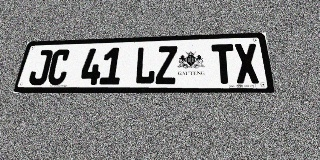1: (99, 47, 123, 85)
4: (79, 48, 104, 85)
C: (46, 49, 71, 85)
J: (27, 50, 53, 85)
L: (134, 46, 156, 84)
T: (211, 44, 236, 84)
X: (234, 43, 261, 84)
Z: (155, 46, 177, 84)
